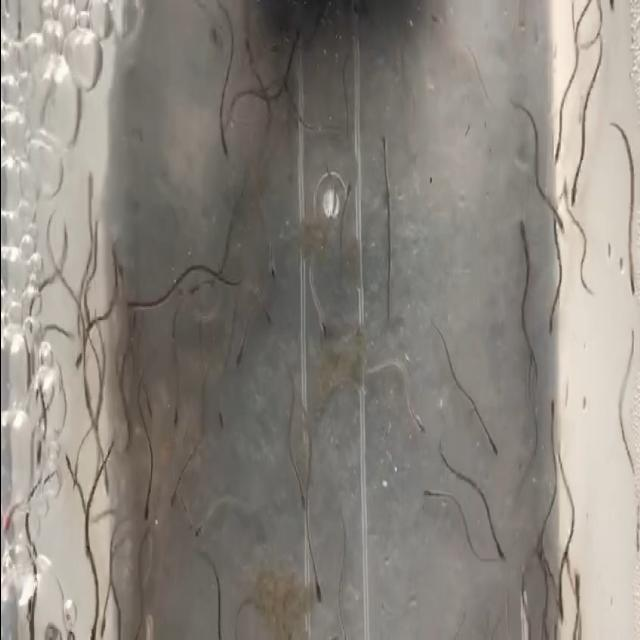active_glass_eel: (419, 471, 459, 538), (406, 392, 431, 470), (546, 72, 572, 140), (552, 184, 585, 234), (431, 1, 461, 56), (332, 166, 361, 218), (518, 230, 540, 296), (365, 128, 401, 167), (80, 578, 102, 638), (484, 524, 508, 578), (252, 282, 276, 336), (179, 265, 199, 328), (225, 334, 250, 384), (210, 106, 233, 160), (287, 9, 309, 65), (544, 281, 564, 342), (122, 578, 146, 626), (16, 592, 40, 640), (481, 428, 511, 465), (553, 574, 571, 634), (300, 570, 328, 608), (202, 585, 224, 632), (308, 306, 329, 349), (133, 289, 163, 319), (166, 483, 188, 522), (540, 162, 558, 208), (290, 478, 308, 522), (238, 35, 258, 73), (64, 432, 80, 477), (139, 478, 155, 523), (197, 494, 214, 536), (543, 386, 559, 430), (573, 570, 587, 620), (622, 241, 634, 299), (323, 466, 335, 523), (144, 404, 160, 446), (67, 344, 85, 381), (95, 468, 114, 502), (133, 342, 148, 384), (533, 572, 550, 608), (64, 452, 78, 495), (166, 390, 182, 425), (80, 186, 94, 226)
